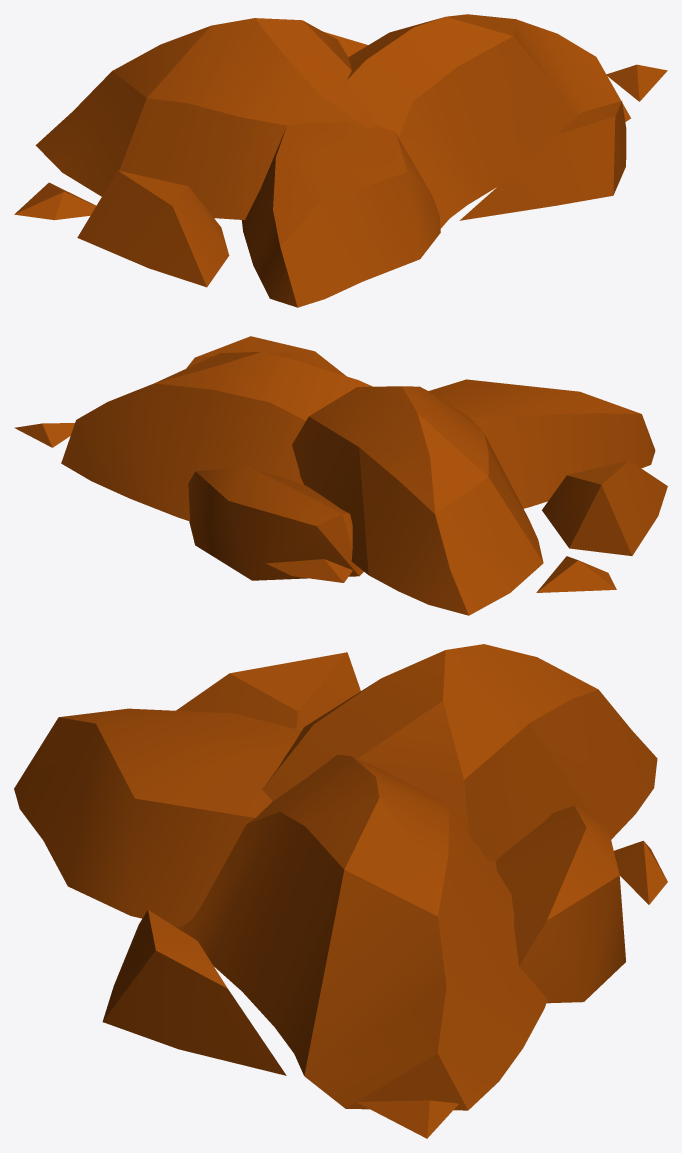
The model's file is RockMount_4.FBX.
3 views of the same model, one above another, from view 1: azimuth 30°, elevation 25°; view 2: azimuth 150°, elevation 25°; view 3: azimuth 270°, elevation 25° (orthographic). The views are drawn at different scales.
Visible parts, largest first — view 1: rocks_mount4; view 2: rocks_mount4; view 3: rocks_mount4.
Boxes of the visible parts, box(x1,y1,x2,y2) form: rocks_mount4: box(14, 14, 667, 307); rocks_mount4: box(14, 336, 667, 615); rocks_mount4: box(14, 644, 667, 1138).
Size of the model in its own units: 8403 by 2217 by 5271.
